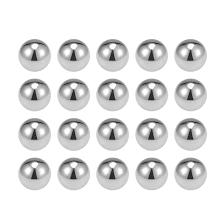steelball: (16, 36, 52, 74), (94, 37, 130, 74), (55, 37, 90, 72)
